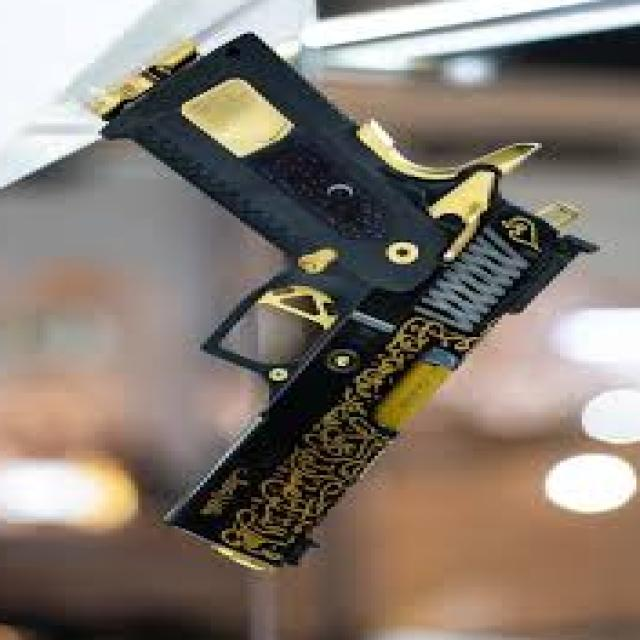Gun: (44, 24, 604, 564)
